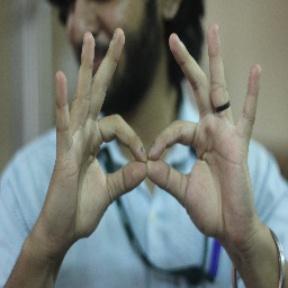B: (87, 109, 212, 200)
